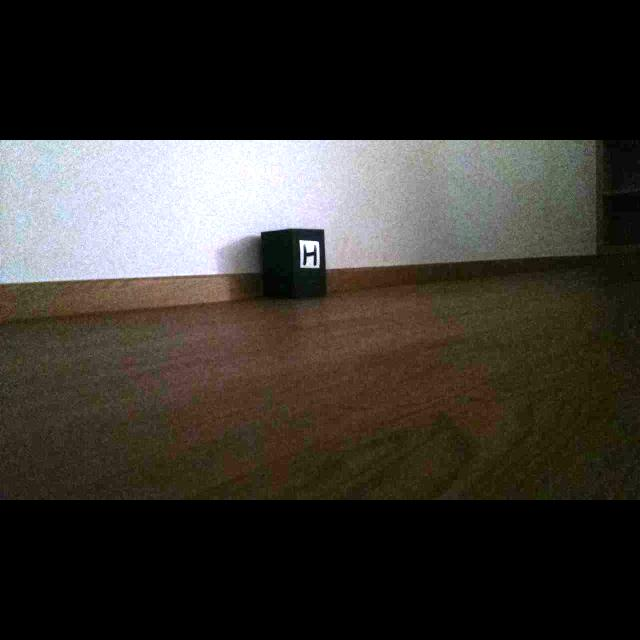H: (303, 244, 317, 266)
